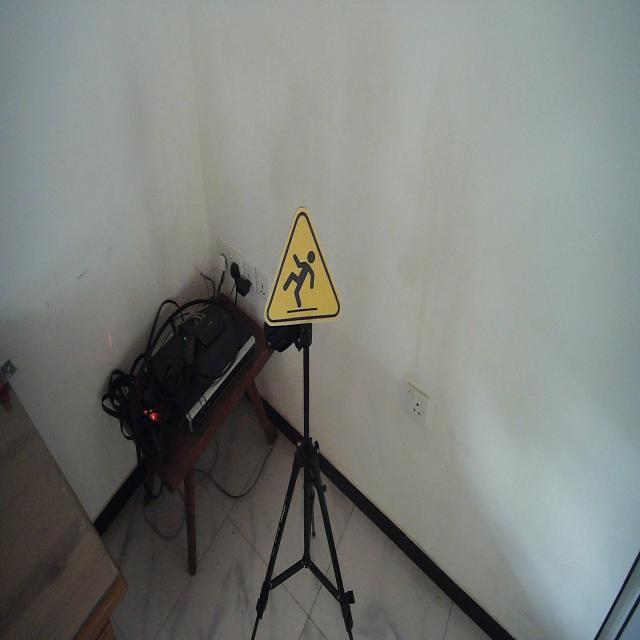slippery_sign: (264, 207, 344, 330)
